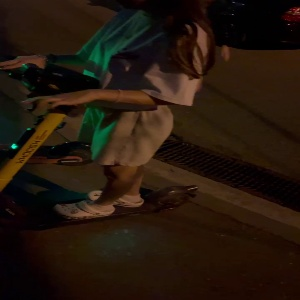human on a scooter: (1, 1, 216, 233)
